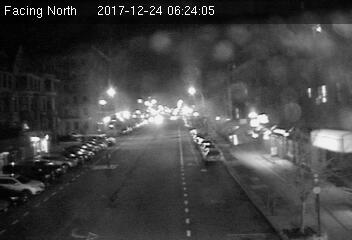car: (202, 147, 221, 163)
